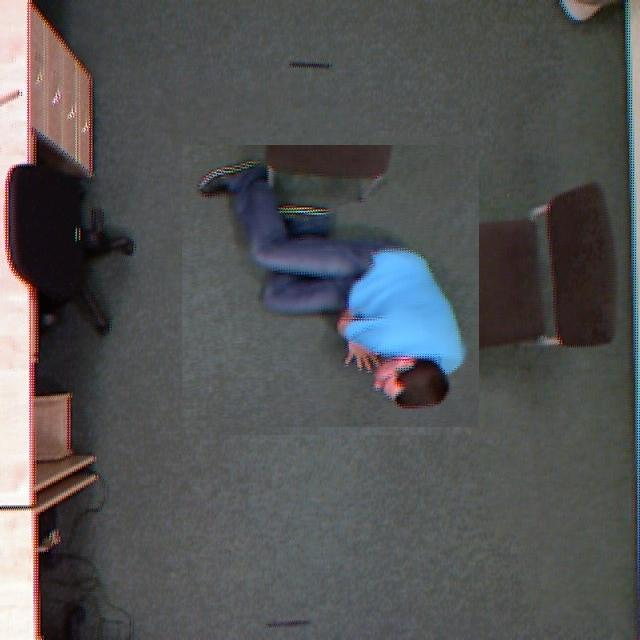Fall: (195, 154, 525, 441)
